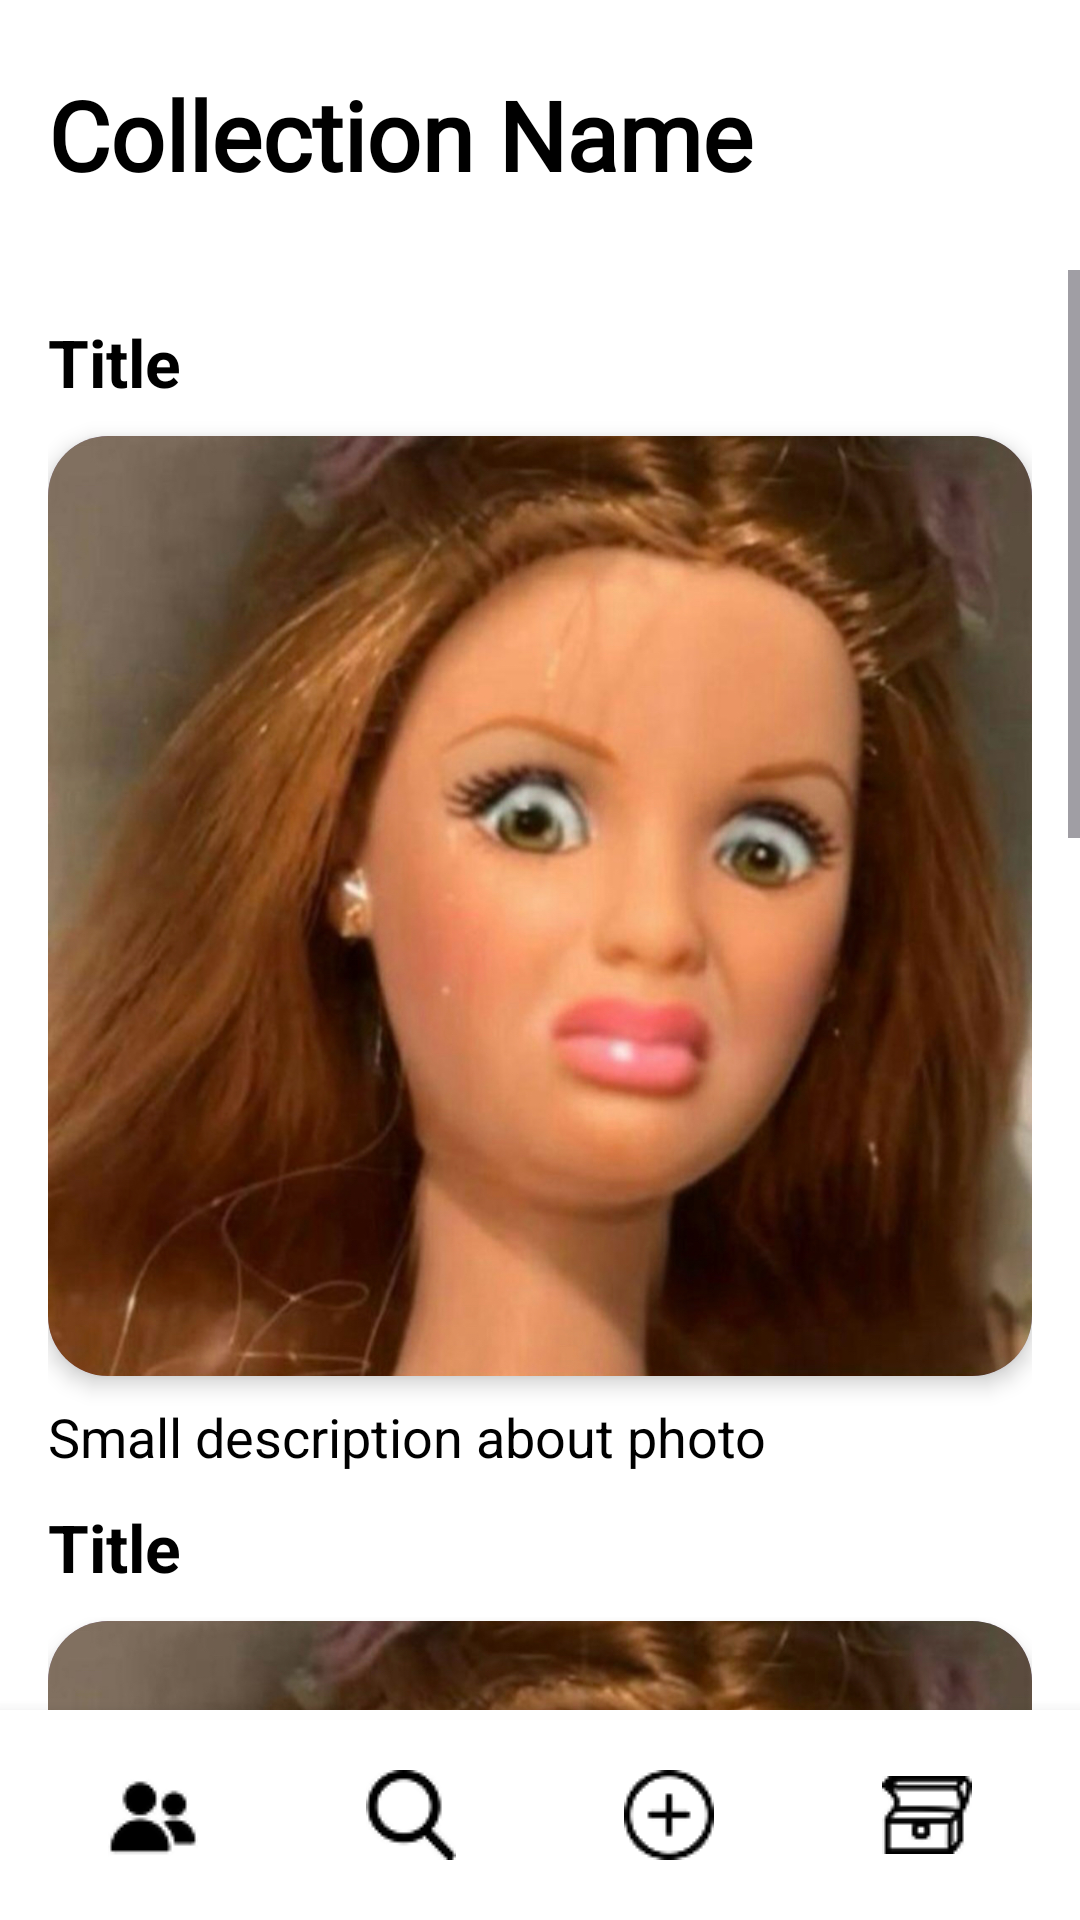

Point at icon controls on the screen. Image size 1080 × 1920, points as [x,y].
Add: [669,1815]
Collections: [927,1815]
Friends: [153,1817]
Search: [411,1815]
